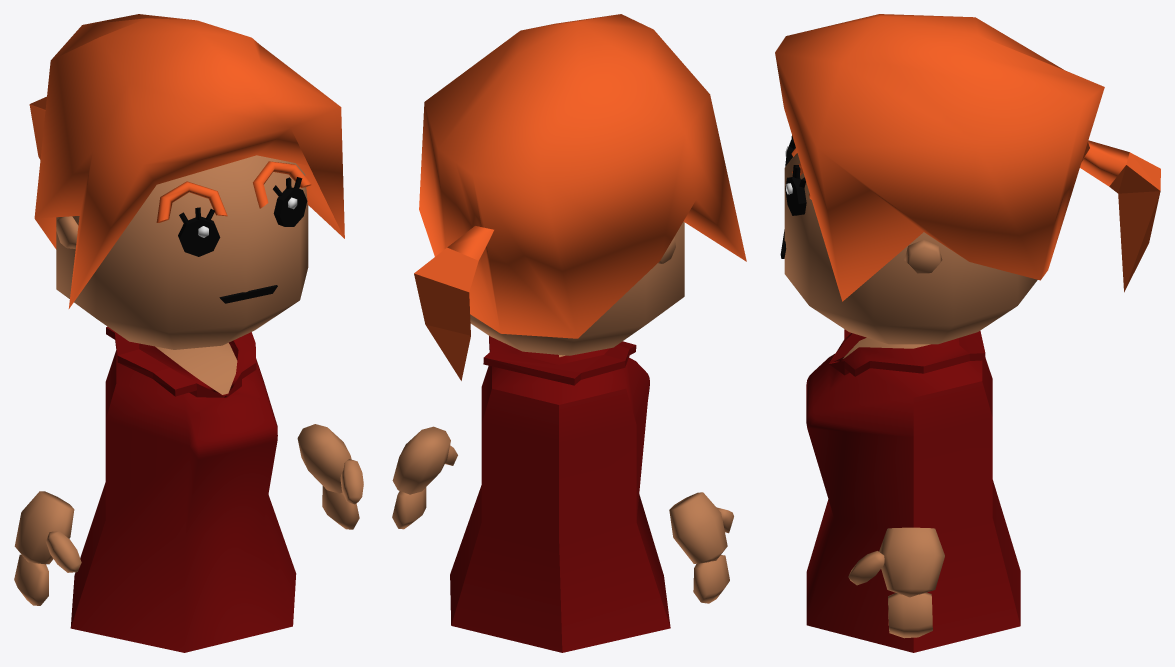
Rendered from mujer_8.fbx.
3 renders of one model, left to right at view 1: azimuth 30°, elevation 25°; view 2: azimuth 150°, elevation 25°; view 3: azimuth 270°, elevation 25°, orthographic. The views are drawn at different scales.
Visible parts, largest first — view 1: Torso003, Pelo003, Cabeza003, Palma Izquerda007, Palma Izquerda006, Cuerpo003, Ojo Derecho003, Dedos Izquierdos006, Ojo Izquierdo003, Ceja Derecha003, Dedos Izquierdos007, DedoPulga Izquierdo006 (+3 smaller); view 2: Pelo003, Torso003, Cabeza003, Palma Izquerda007, Palma Izquerda006, Dedos Izquierdos006, Dedos Izquierdos007; view 3: Pelo003, Torso003, Cabeza003, Palma Izquerda006, Dedos Izquierdos007, Oreja Derecha007, DedoPulga Izquierdo007, Ojo Izquierdo003.
Boxes of the visible parts, x1=… form: Torso003: x1=70, y1=326, x2=296, y2=652; Pelo003: x1=29, y1=14, x2=344, y2=308; Cabeza003: x1=56, y1=155, x2=308, y2=349; Palma Izquerda007: x1=14, y1=491, x2=74, y2=564; Palma Izquerda006: x1=297, y1=424, x2=351, y2=493; Cuerpo003: x1=155, y1=343, x2=237, y2=394; Ojo Derecho003: x1=178, y1=207, x2=220, y2=256; Dedos Izquierdos006: x1=14, y1=554, x2=48, y2=605; Ojo Izquierdo003: x1=273, y1=177, x2=307, y2=226; Ceja Derecha003: x1=156, y1=181, x2=227, y2=222; Dedos Izquierdos007: x1=322, y1=486, x2=359, y2=529; DedoPulga Izquierdo006: x1=46, y1=531, x2=81, y2=572; Pelo003: x1=414, y1=14, x2=746, y2=380; Torso003: x1=450, y1=336, x2=670, y2=652; Cabeza003: x1=470, y1=221, x2=684, y2=355; Palma Izquerda007: x1=669, y1=492, x2=727, y2=563; Palma Izquerda006: x1=392, y1=426, x2=450, y2=494; Dedos Izquierdos006: x1=693, y1=555, x2=729, y2=603; Dedos Izquierdos007: x1=392, y1=487, x2=426, y2=529; Pelo003: x1=775, y1=14, x2=1160, y2=301; Torso003: x1=806, y1=329, x2=1020, y2=652; Cabeza003: x1=784, y1=153, x2=1037, y2=344; Palma Izquerda006: x1=879, y1=527, x2=944, y2=597; Dedos Izquierdos007: x1=888, y1=592, x2=932, y2=638; Oreja Derecha007: x1=904, y1=239, x2=942, y2=273; DedoPulga Izquierdo007: x1=848, y1=551, x2=884, y2=585; Ojo Izquierdo003: x1=785, y1=165, x2=806, y2=215.
Bounding box in the file's own units: 1.41 × 2.35 × 1.42.
